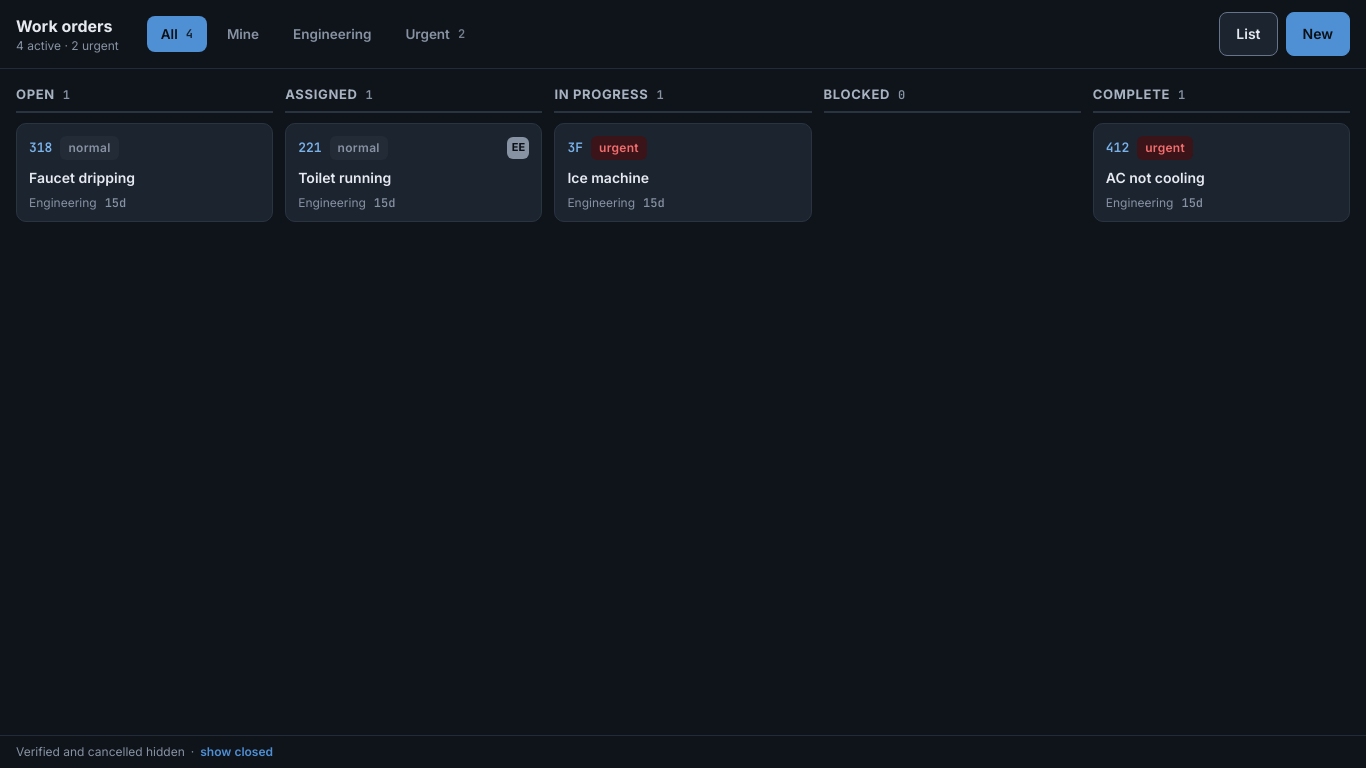
Test: BoardPage › switches to a list view
Step 1. Click the button "List" → (1248, 34), box [1219, 12, 1278, 56]
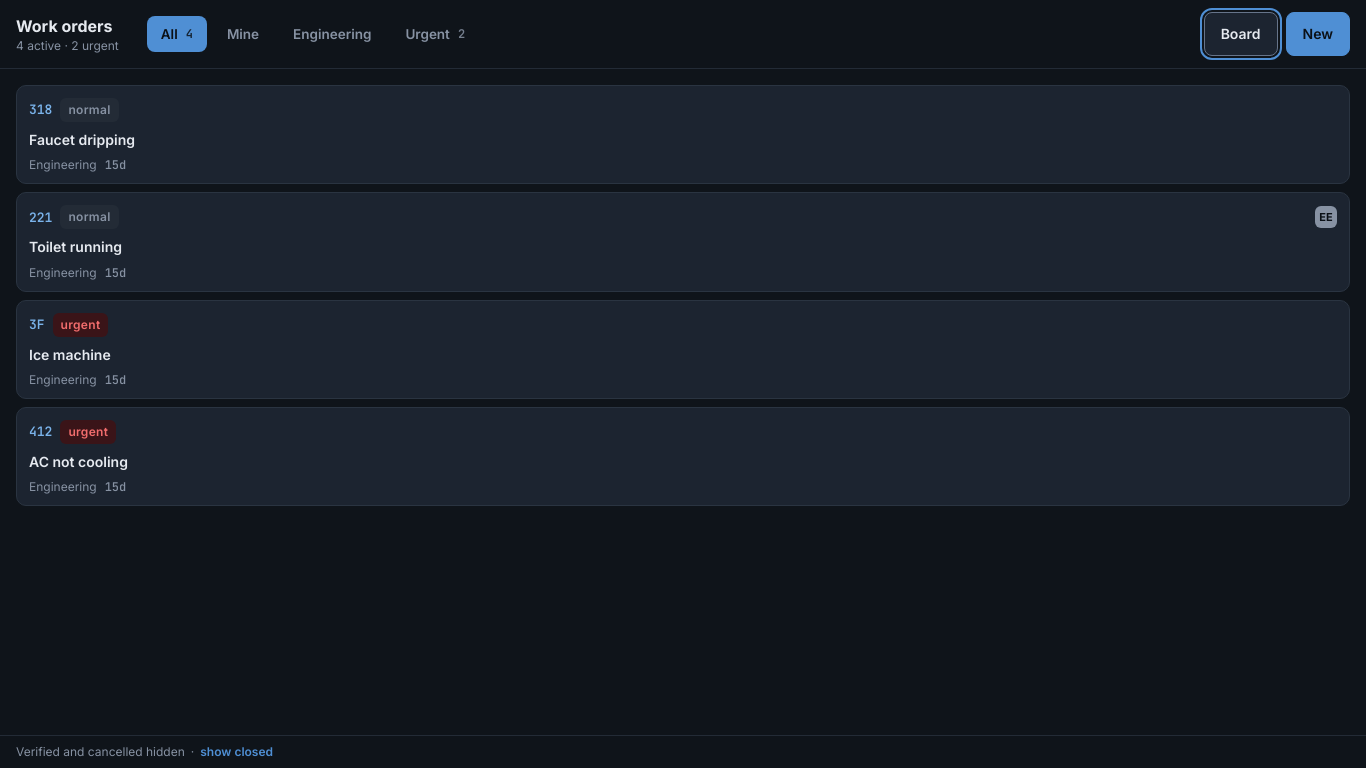
Expected: the button "Board" is shown, [1204, 12, 1278, 56]
Expected: the heading "In progress" is gone
